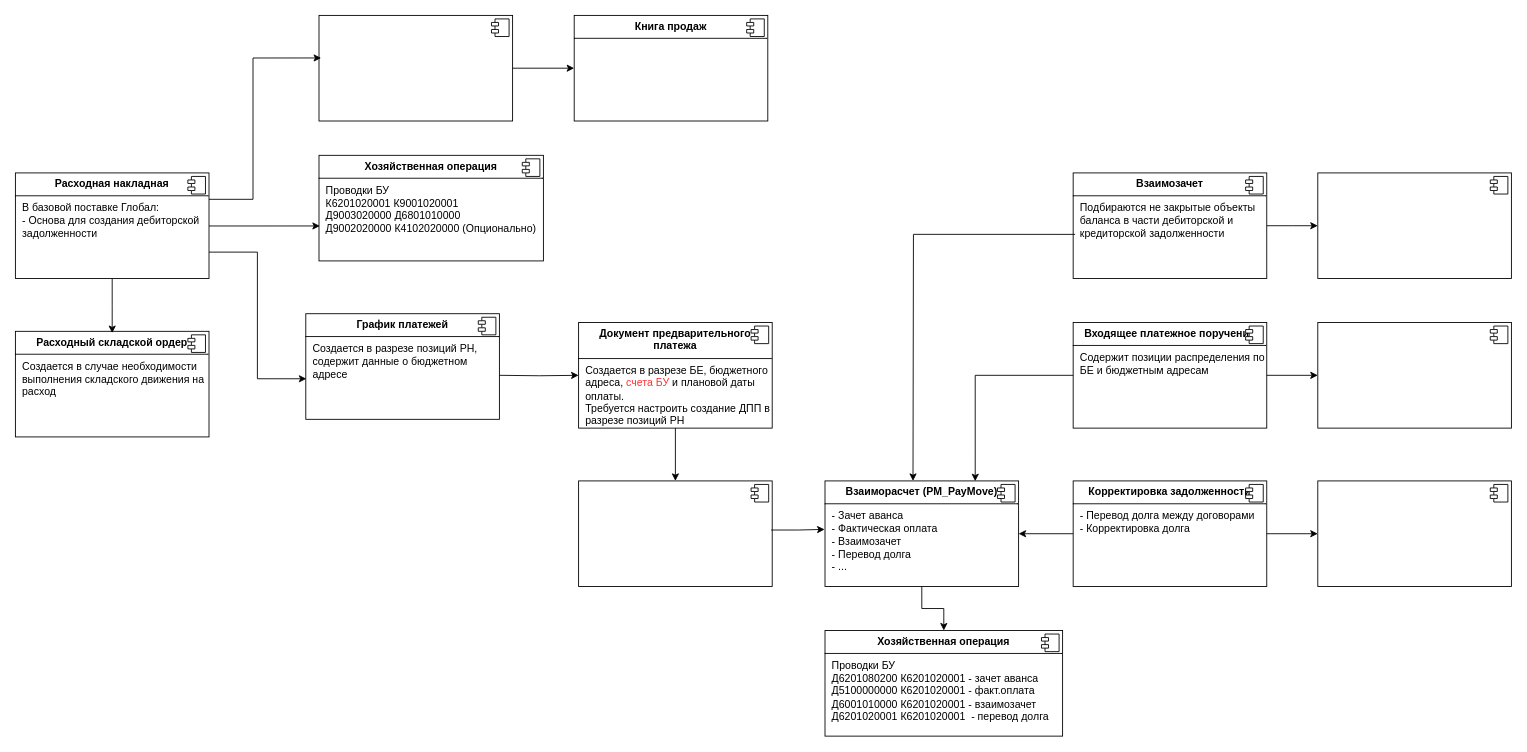
Some shapes in this 1527 by 752 pixel diagram are drawn without their labels. Each missing label, with the box of its shape:
Исходящий счет-фактура Может включать несколько расходных накладных: (318, 15, 513, 121)
Объект баланса (PM_BalObj) В целевой схеме объекты баланса создаются 1 в 1 к ДПП: (578, 480, 772, 587)
Хозяйственная операция Проводки БУ Д5100000000 К6201020001 - факт.оплата: (1317, 322, 1511, 428)
Хозяйственная операция Проводки БУ Д6001010000 К6201020001 - взаимозачет: (1317, 172, 1511, 279)
Хозяйственная операция Проводки БУ Д6201020001 К6201020001 - перевод долга: (1317, 480, 1511, 587)
